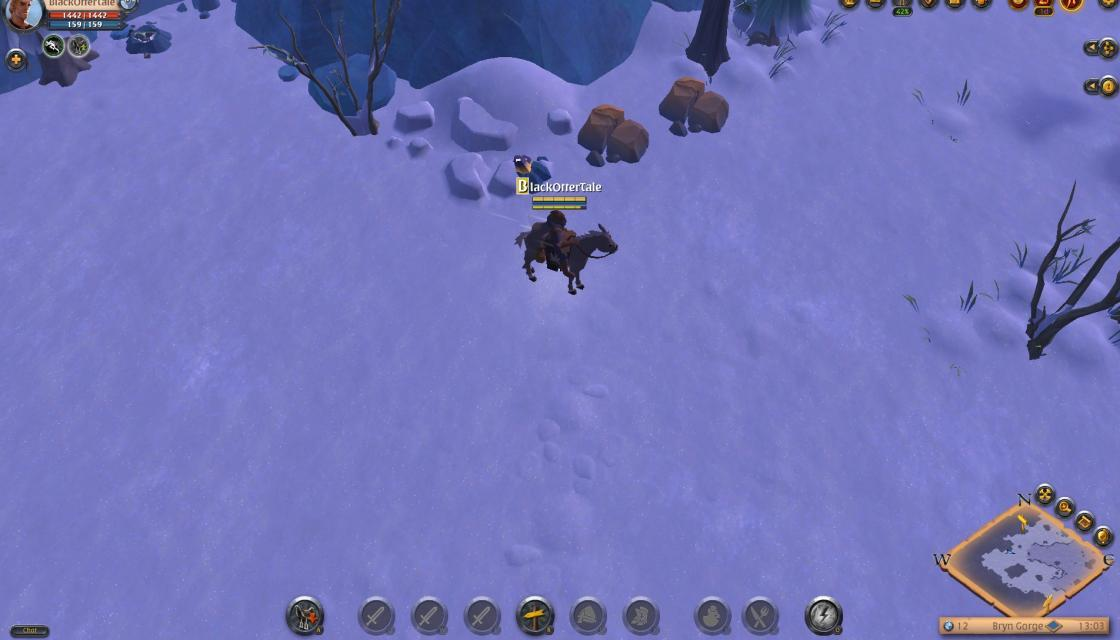copperore: (503, 150, 556, 194)
limestone: (652, 75, 732, 142), (571, 100, 648, 167)
